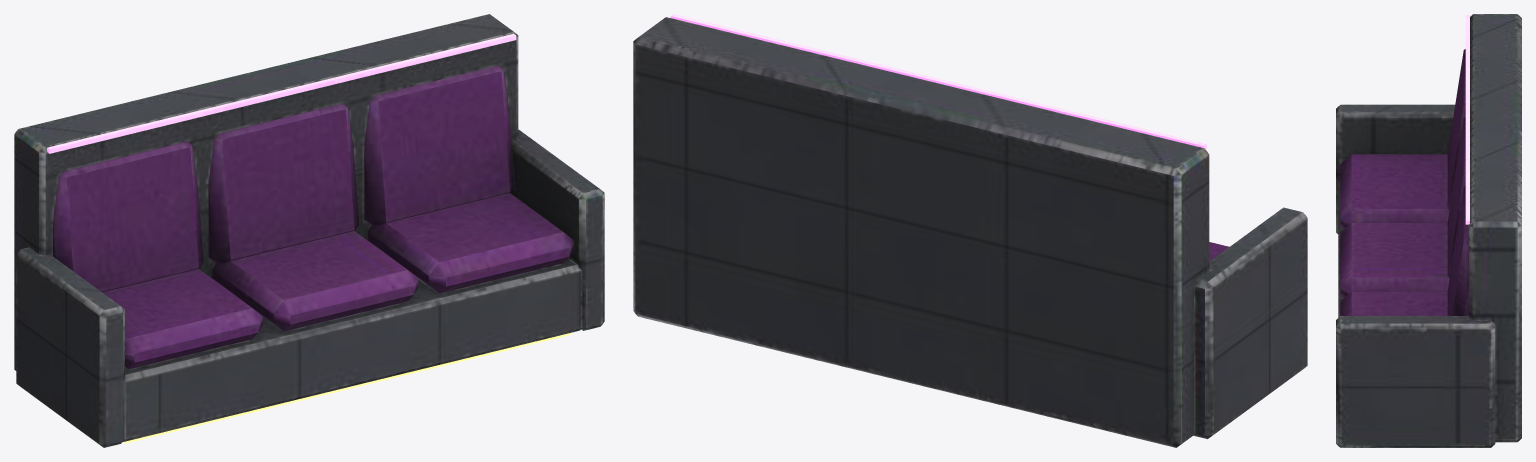
The model's file is sofa_neon.glb.
3 renders of one model, left to right at view 1: azimuth 30°, elevation 25°; view 2: azimuth 150°, elevation 25°; view 3: azimuth 270°, elevation 25°, orthographic. The views are drawn at different scales.
Parts seen in each view (by area): view 1: sofa_neon; view 2: sofa_neon; view 3: sofa_neon.
Part boxes in pixels (x1,y1,x2,y2): sofa_neon: (14, 14, 604, 447); sofa_neon: (633, 14, 1307, 447); sofa_neon: (1336, 14, 1521, 447).
Bounding box in the file's own units: 2.38 × 1.12 × 0.84.
1 material, 1 textured.
